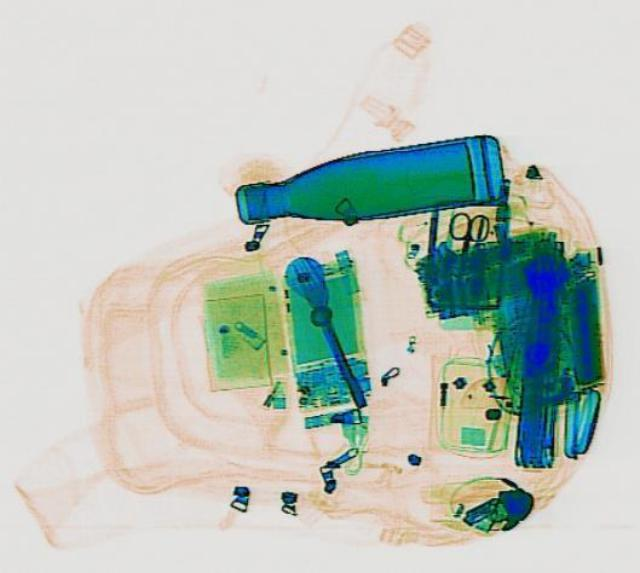Scissors: (437, 210, 489, 282)
